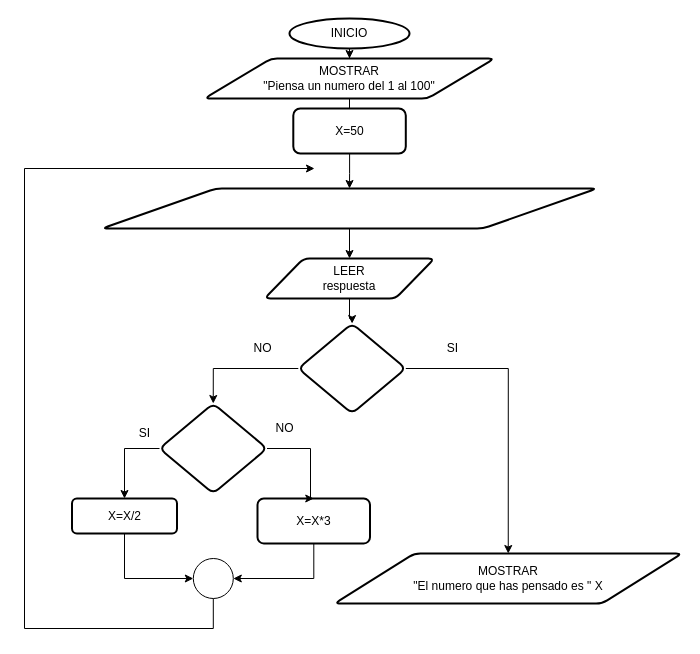
Some shapes in this 700 by 654 pixel diagram are drawn without their labels. The centre of each missing label's shape, as x and y in pixels:
MOSTRAR "El numero que estas pensando es < o > o ="X"?": [349,208]
respuesta=="<": [213,448]
respuesta=="=": [351,368]
